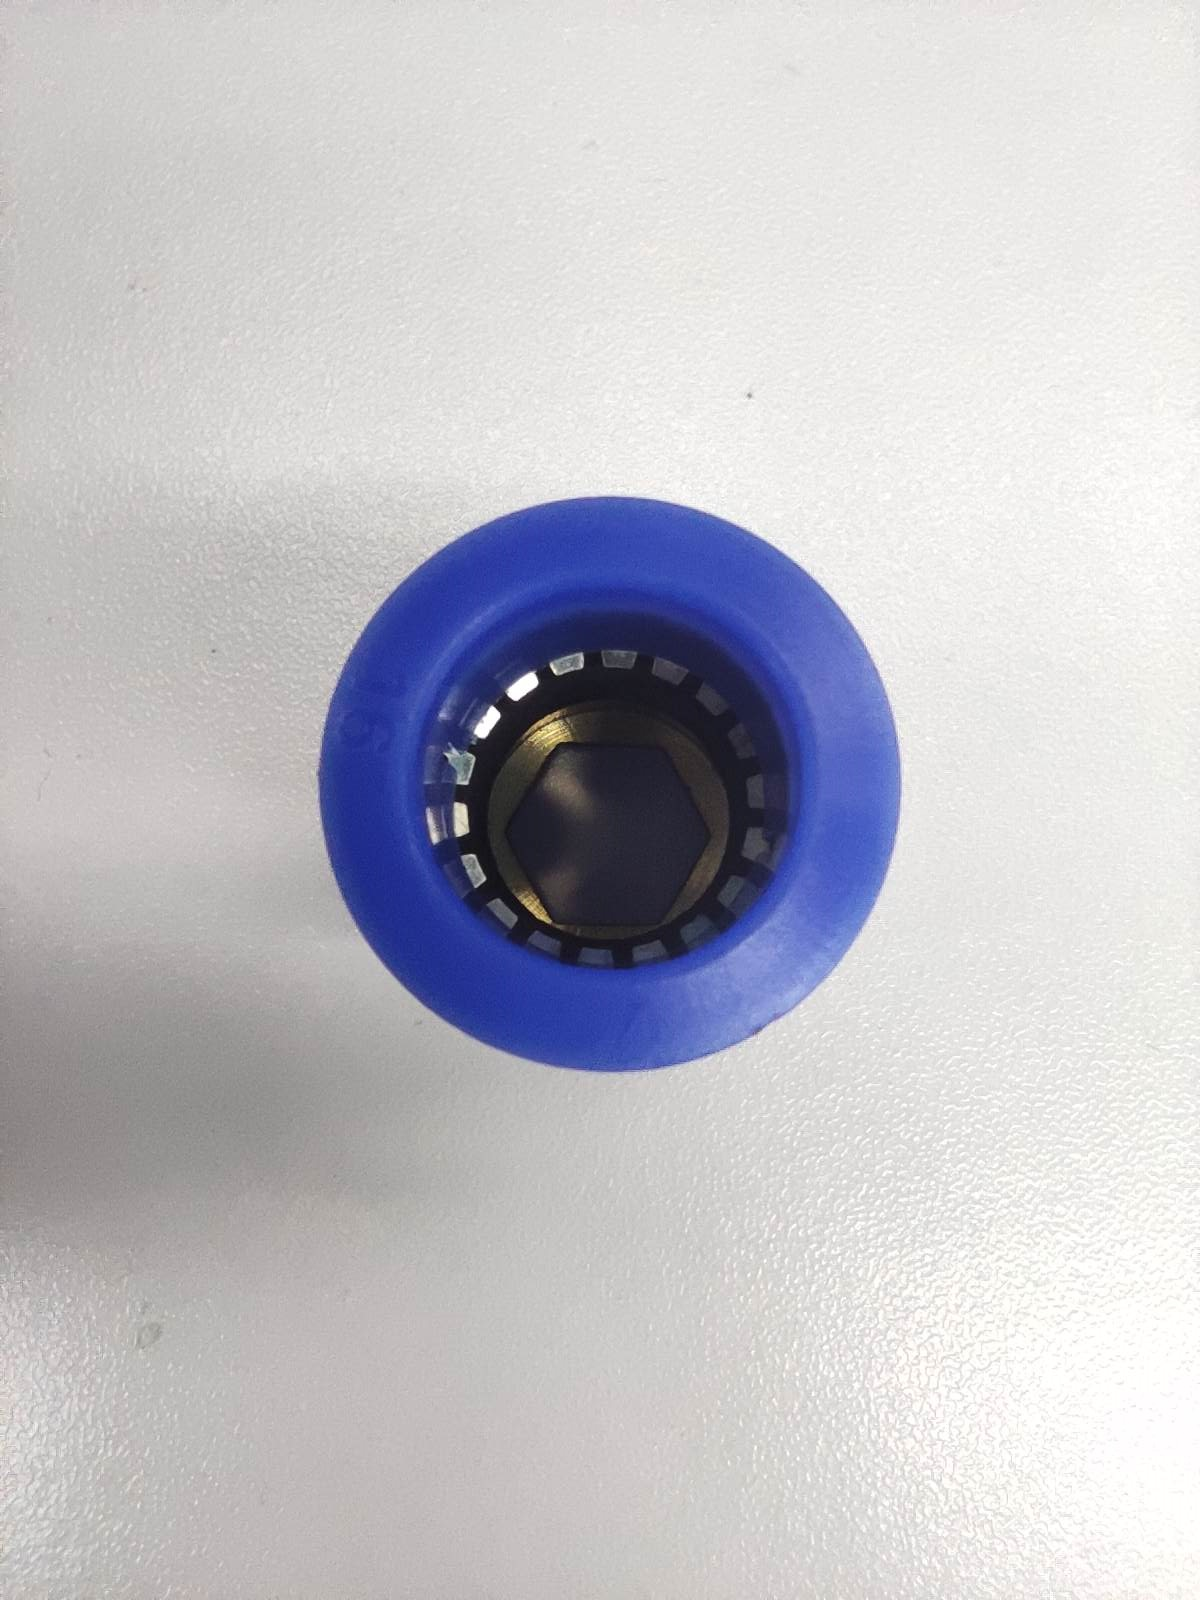水管接头黄: (316, 494, 901, 1073)
